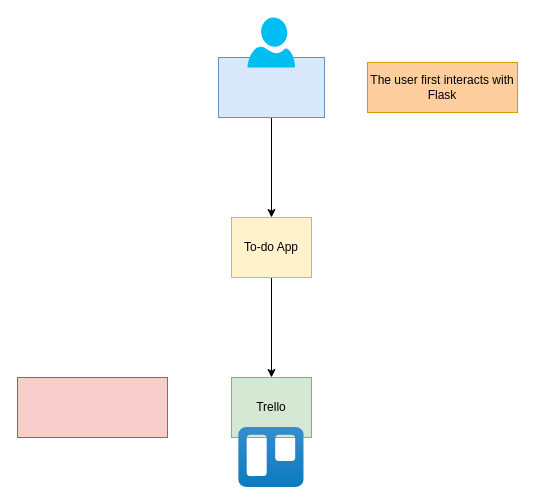
The diagram is 535 pixels wide and 504 high, and some of its shapes have lost their labels. Here are the shapes that lost their labels. From the top down, the centre of each, then its label:
At point (271, 87): "User".
At point (92, 407): "Trello functions as the persistent storage of todo items".
